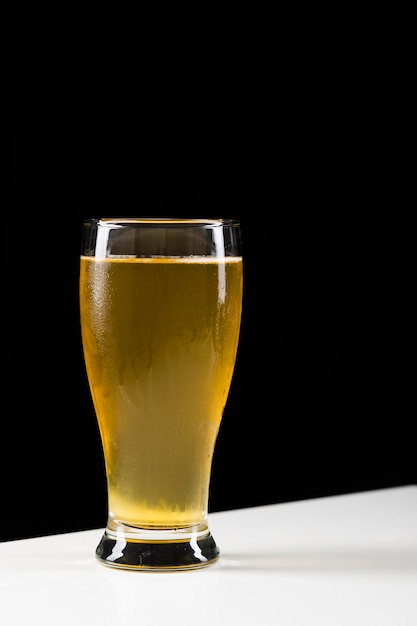alcohol: (77, 212, 243, 573)
